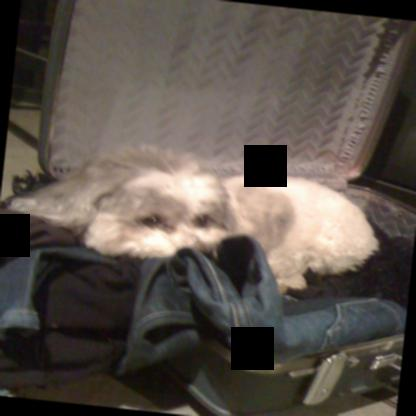suitcase: (38, 0, 416, 243), (185, 334, 404, 416)
